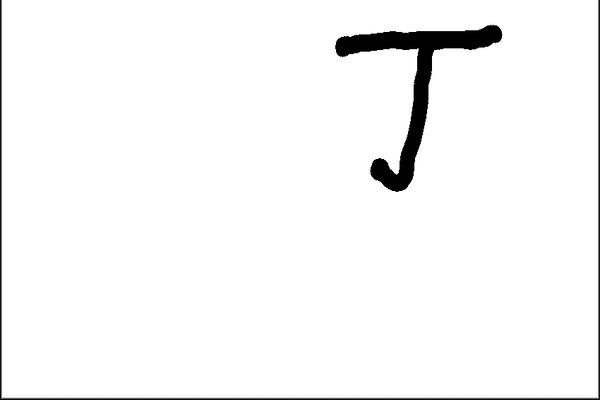T: (323, 17, 513, 150)
